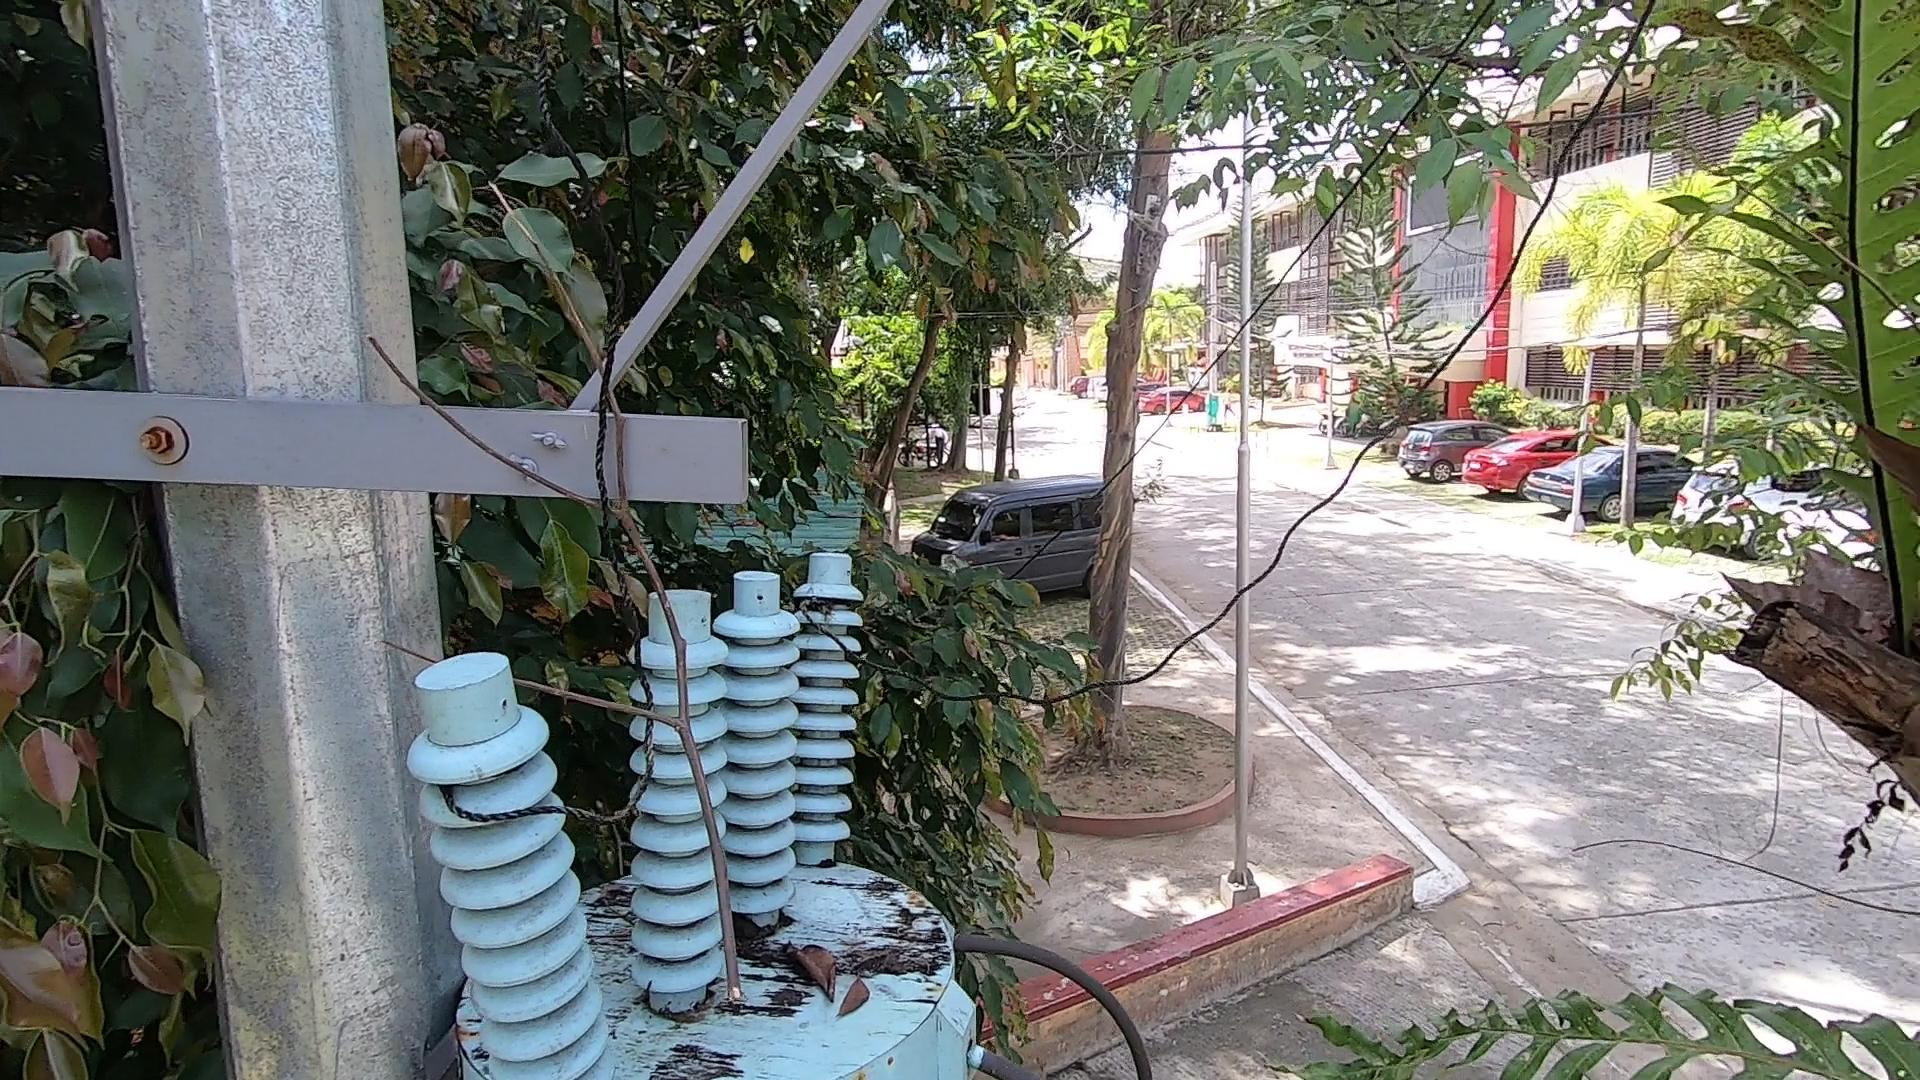leaf: (779, 934, 849, 1002), (836, 977, 881, 1027), (729, 910, 769, 953)
tree branch: (338, 255, 758, 1005)
